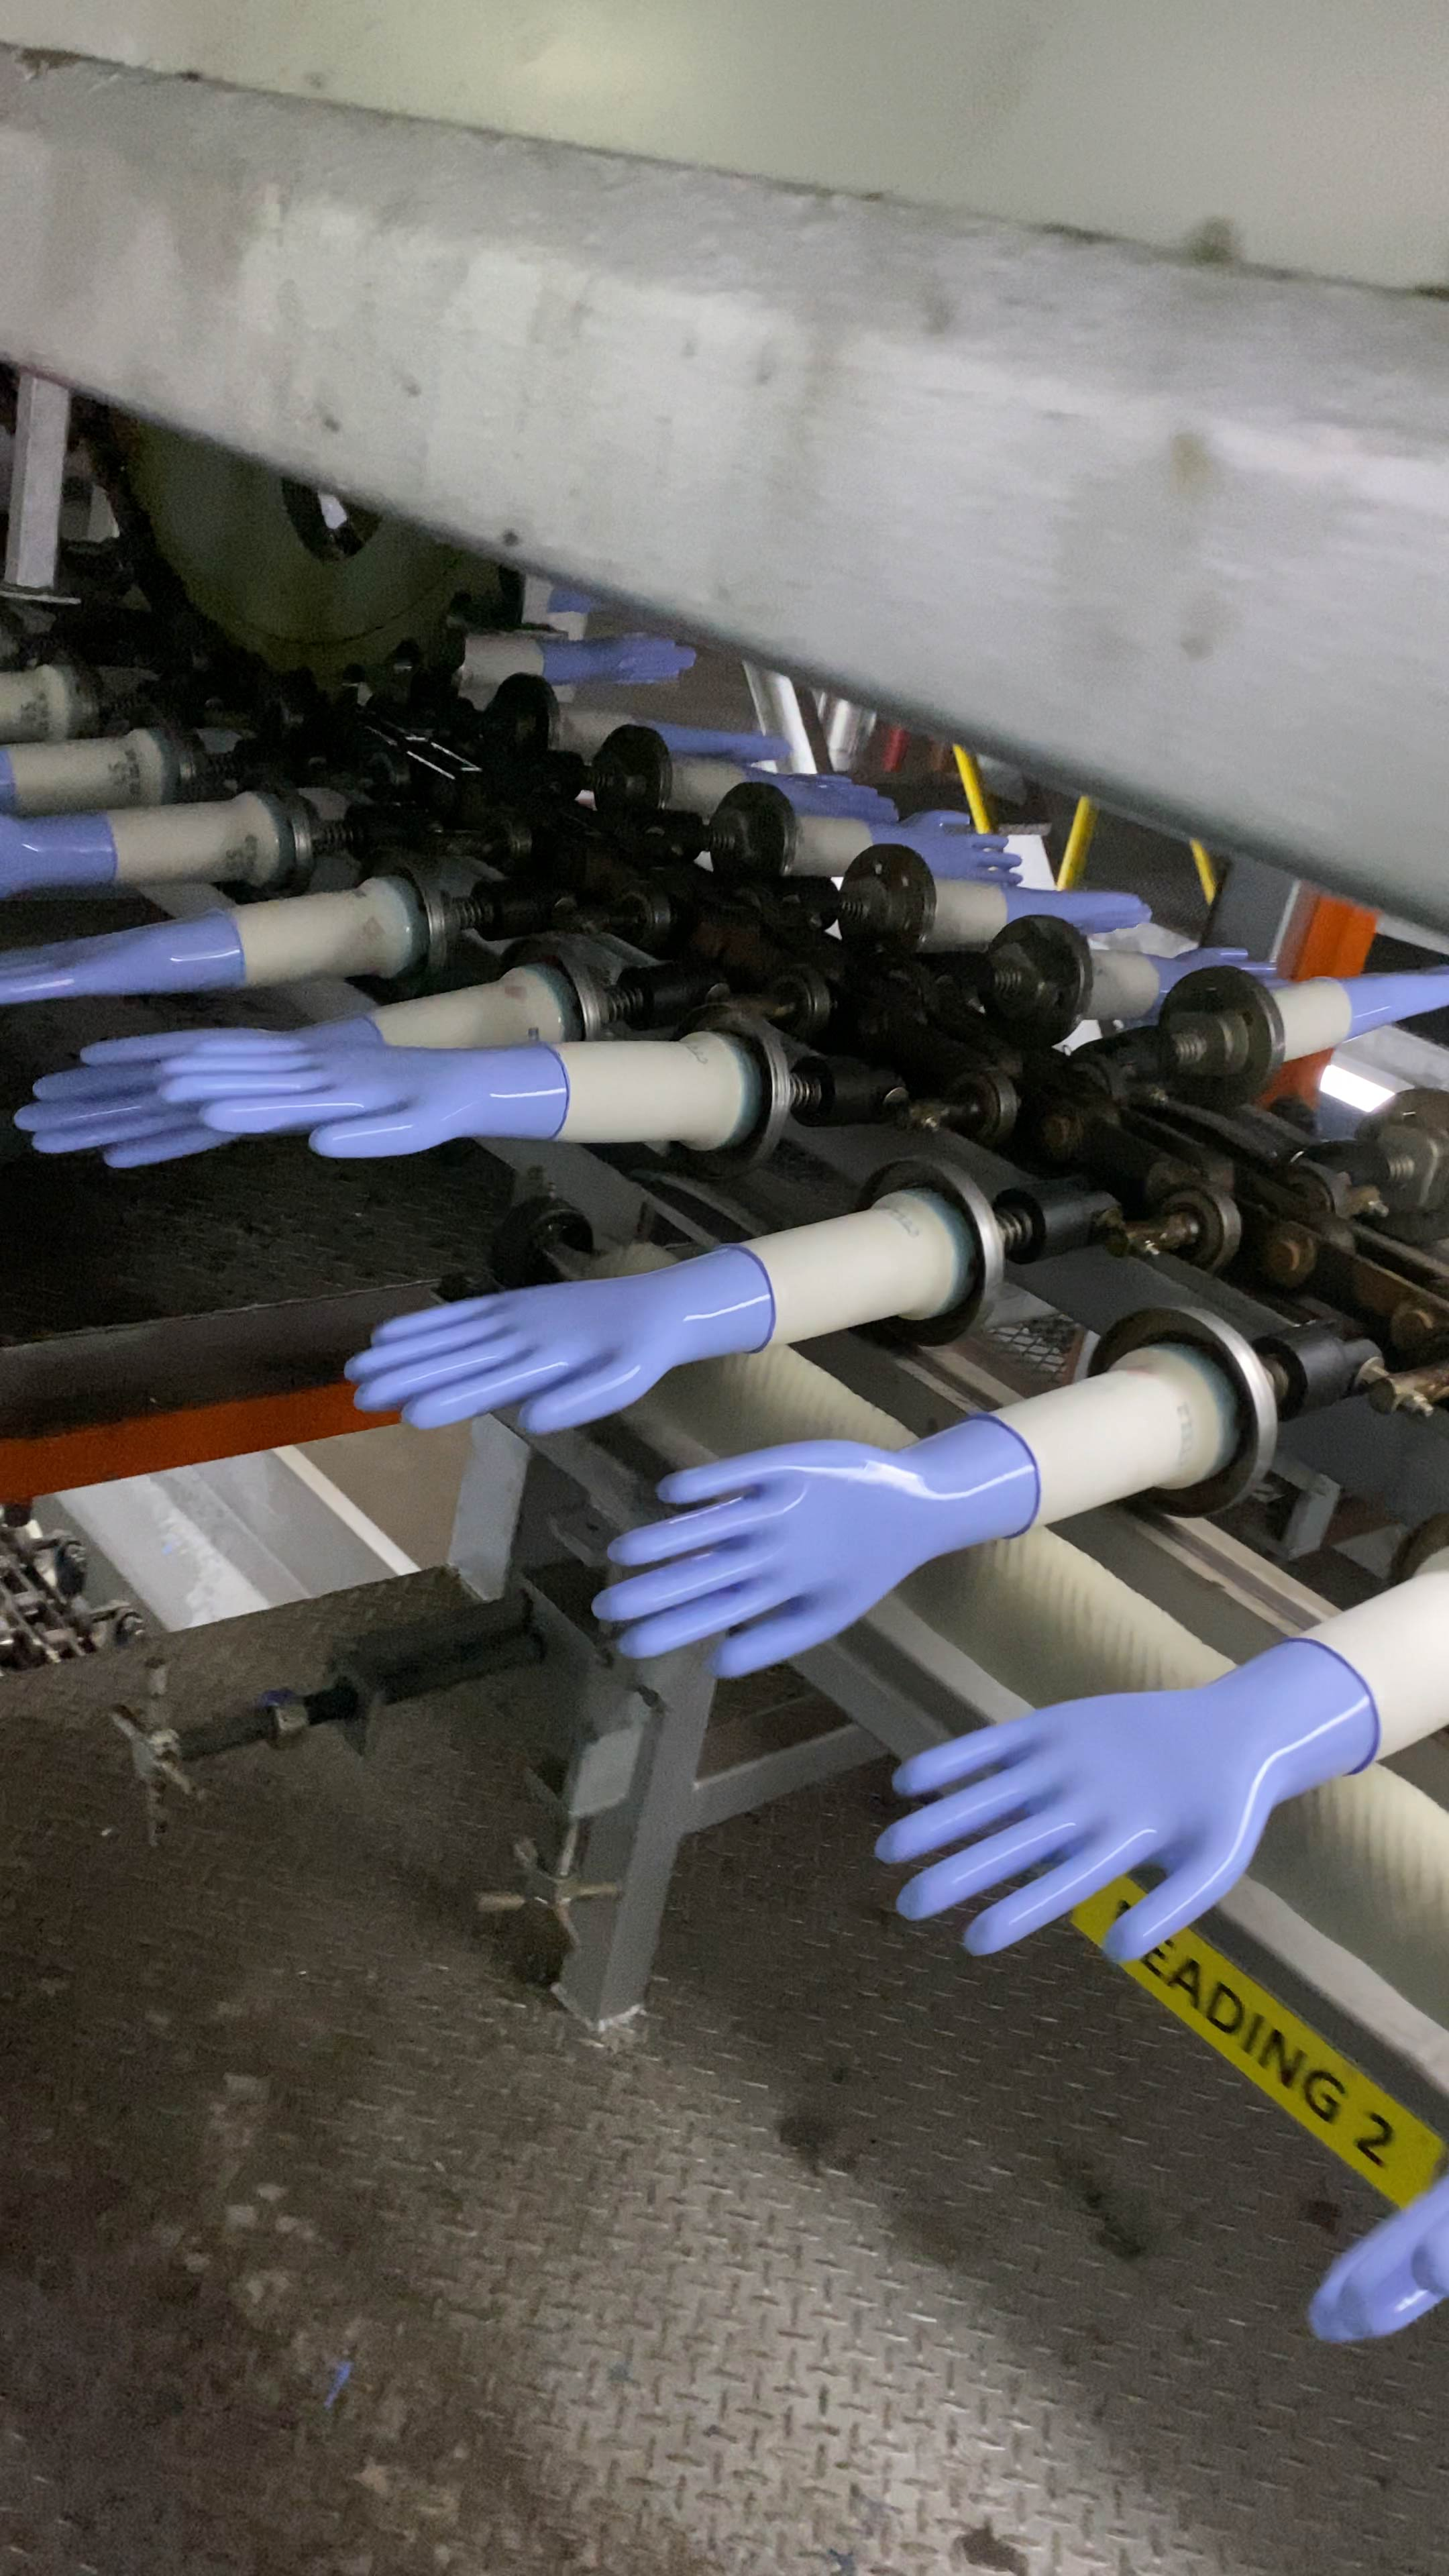glove: (874, 1638, 1380, 1960), (591, 1415, 1040, 1675), (345, 1247, 775, 1433), (14, 1014, 387, 1169), (154, 1035, 570, 1159), (0, 911, 244, 1005), (872, 809, 1023, 886), (0, 810, 117, 902), (747, 768, 899, 828), (536, 630, 697, 686), (1146, 947, 1288, 1010), (1341, 966, 1449, 1039), (1003, 888, 1152, 936), (644, 720, 793, 763)
